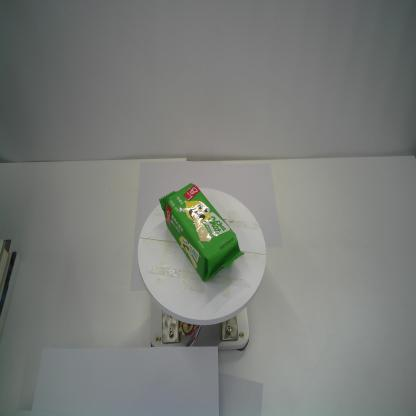Dessert: (159, 182, 245, 282)
